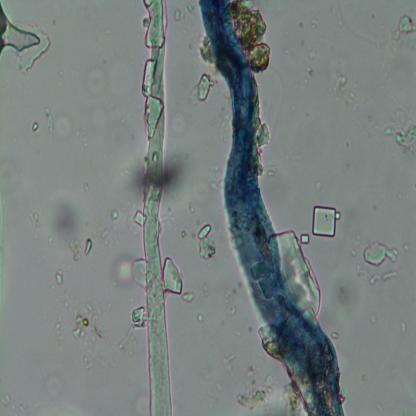Background material: (0, 1, 52, 71), (232, 0, 272, 72), (328, 253, 362, 320), (239, 370, 288, 412), (320, 64, 358, 117), (48, 193, 84, 243), (44, 110, 77, 150), (382, 118, 416, 156), (360, 237, 401, 265), (38, 367, 66, 400), (74, 309, 101, 343), (82, 59, 106, 97), (162, 256, 184, 296), (112, 253, 136, 287), (196, 223, 216, 260), (194, 72, 216, 104), (299, 41, 319, 75), (394, 13, 414, 45), (121, 326, 139, 360), (132, 386, 150, 416), (0, 386, 19, 414), (67, 236, 84, 267), (50, 306, 62, 340), (222, 352, 238, 376), (365, 272, 398, 283), (174, 7, 193, 26), (107, 206, 121, 223), (179, 291, 196, 305), (396, 314, 410, 331), (27, 210, 38, 231), (193, 310, 208, 323), (54, 268, 64, 286), (84, 236, 92, 257), (30, 119, 40, 133), (331, 328, 340, 342), (231, 306, 237, 318)
Cellulose filter fibre: (141, 0, 174, 414)
Cotton: (197, 1, 349, 415)
